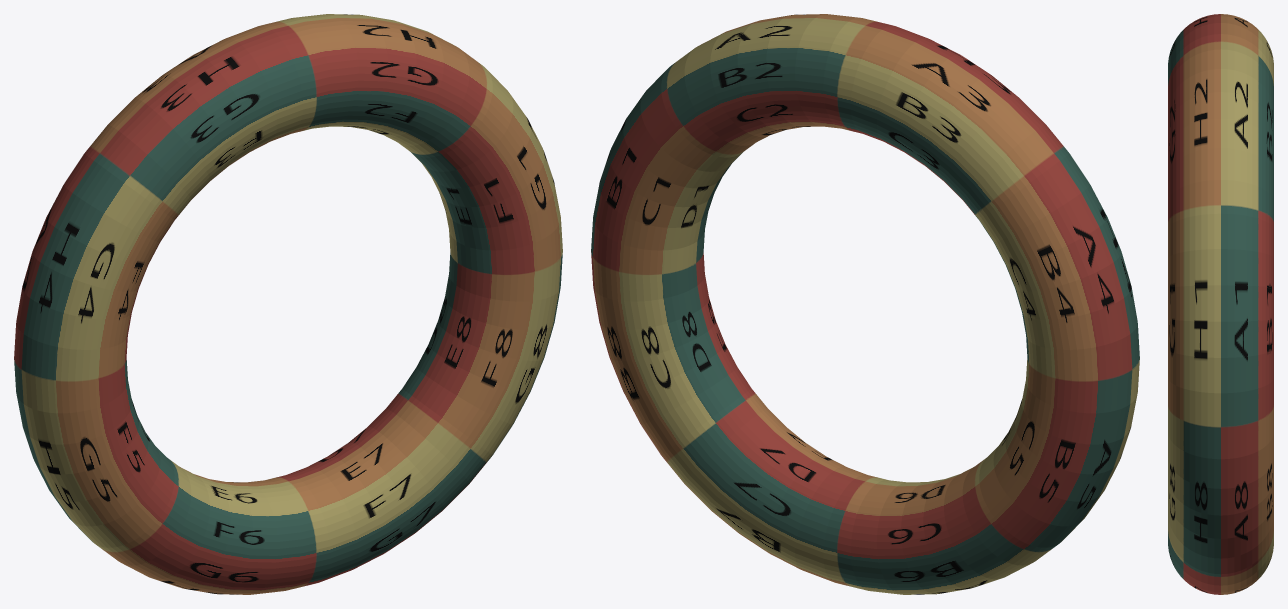
Rendered from texture_torus_R2_r2.glb.
3 renders of one model, left to right at view 1: azimuth 30°, elevation 25°; view 2: azimuth 150°, elevation 25°; view 3: azimuth 270°, elevation 25°, orthographic. The views are drawn at different scales.
Parts seen in each view (by area): view 1: world; view 2: world; view 3: world.
Part boxes in pixels (x1,y1,x2,y2): world: (14, 14, 562, 594); world: (591, 14, 1139, 594); world: (1168, 14, 1273, 594).
Bounding box in the file's own units: 13.87 × 13.84 × 2.53.
Materials: 1 (1 with a texture image).
